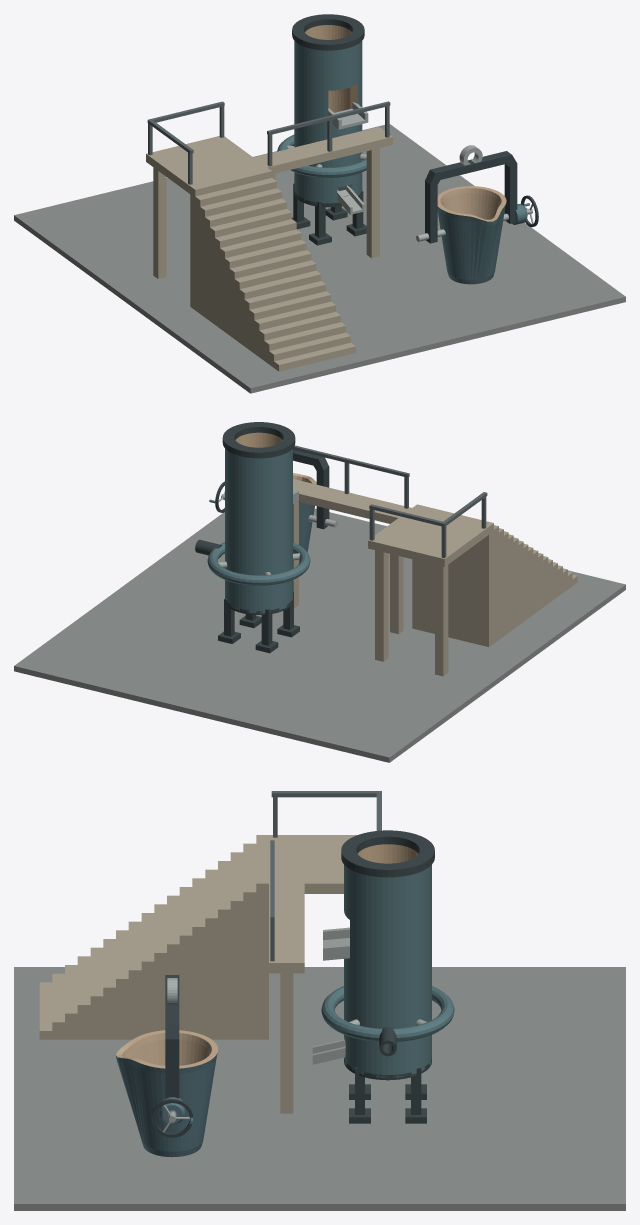
The picture shows the model from 3 angles, top to bottom: view 1: azimuth 30°, elevation 25°; view 2: azimuth 150°, elevation 25°; view 3: azimuth 270°, elevation 25°; orthographic projection. The views are drawn at different scales.
Parts seen in each view (by area): view 1: SceneOnlyFoundryCourtFloor, SceneOnlyFoundryCourtRaisedStairAndLanding, cupola__WholeContinuousPortedHighShaft, ladle__WholeTaperedDeepVesselAndPourLip, ladle__WholeHighOverheadBail, cupola__WholeThickOpenTopCollar, SceneOnlyFoundryCourtOuterLandingRail, SceneOnlyFoundryCourtOuterCrossRail, cupola__WholeAnnularWindBeltExterior, cupola__WholeHighOpenChargingSill; view 2: SceneOnlyFoundryCourtFloor, SceneOnlyFoundryCourtRaisedStairAndLanding, cupola__WholeContinuousPortedHighShaft, cupola__WholeThickOpenTopCollar, cupola__WholeAnnularWindBeltExterior, SceneOnlyFoundryCourtOuterLandingRail, SceneOnlyFoundryCourtOuterCrossRail, ladle__WholeHighOverheadBail, ladle__WholeTaperedDeepVesselAndPourLip; view 3: SceneOnlyFoundryCourtFloor, SceneOnlyFoundryCourtRaisedStairAndLanding, cupola__WholeContinuousPortedHighShaft, ladle__WholeTaperedDeepVesselAndPourLip, cupola__WholeThickOpenTopCollar, cupola__WholeAnnularWindBeltExterior, ladle__WholeHighOverheadBail, SceneOnlyFoundryCourtOuterLandingRail, cupola__WholeHighOpenChargingSill, cupola__WholeLowOpenSpout, SceneOnlyFoundryCourtOuterCrossRail.
Part boxes in pixels (x1,y1,x2,y2): SceneOnlyFoundryCourtFloor: (14, 124, 625, 393); SceneOnlyFoundryCourtRaisedStairAndLanding: (146, 127, 392, 371); cupola__WholeContinuousPortedHighShaft: (294, 25, 362, 204); ladle__WholeTaperedDeepVesselAndPourLip: (437, 186, 506, 284); ladle__WholeHighOverheadBail: (425, 151, 517, 243); cupola__WholeThickOpenTopCollar: (292, 14, 364, 50); SceneOnlyFoundryCourtOuterLandingRail: (147, 101, 224, 184); SceneOnlyFoundryCourtOuterCrossRail: (267, 101, 390, 166); cupola__WholeAnnularWindBeltExterior: (277, 134, 366, 177); cupola__WholeHighOpenChargingSill: (328, 102, 368, 129); SceneOnlyFoundryCourtFloor: (14, 508, 625, 762); SceneOnlyFoundryCourtRaisedStairAndLanding: (293, 479, 577, 676); cupola__WholeContinuousPortedHighShaft: (225, 432, 292, 613); cupola__WholeThickOpenTopCollar: (222, 422, 295, 458); cupola__WholeAnnularWindBeltExterior: (207, 542, 310, 585); SceneOnlyFoundryCourtOuterLandingRail: (369, 492, 487, 558); SceneOnlyFoundryCourtOuterCrossRail: (293, 445, 409, 508); ladle__WholeHighOverheadBail: (293, 450, 329, 529); ladle__WholeTaperedDeepVesselAndPourLip: (293, 473, 316, 563); SceneOnlyFoundryCourtFloor: (14, 967, 625, 1210); SceneOnlyFoundryCourtRaisedStairAndLanding: (39, 835, 357, 1113); cupola__WholeContinuousPortedHighShaft: (344, 844, 431, 1077); ladle__WholeTaperedDeepVesselAndPourLip: (115, 1030, 218, 1157); cupola__WholeThickOpenTopCollar: (341, 830, 434, 877); cupola__WholeAnnularWindBeltExterior: (321, 986, 454, 1041); ladle__WholeHighOverheadBail: (165, 975, 179, 1098); SceneOnlyFoundryCourtOuterLandingRail: (271, 791, 381, 837); cupola__WholeHighOpenChargingSill: (323, 927, 349, 960); cupola__WholeLowOpenSpout: (312, 1039, 345, 1064); SceneOnlyFoundryCourtOuterCrossRail: (270, 840, 274, 961).
Bounding box in the file's own units: 8.8 × 4.57 × 9.6.
